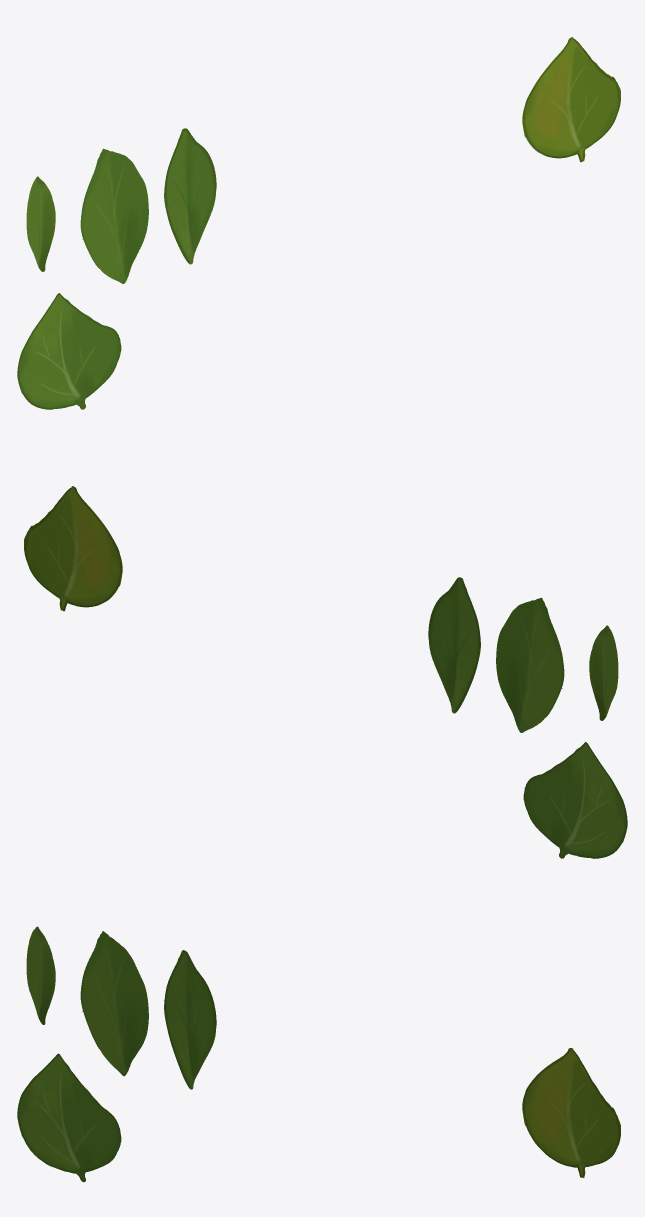
The model's file is big_leafs.fbx.
3 views of the same model, one above another, from view 1: azimuth 30°, elevation 25°; view 2: azimuth 150°, elevation 25°; view 3: azimuth 330°, elevation 25° (orthographic).
Visible parts, largest first — view 1: LLeaf1, LLeaf, big_leaf1, big_leaf2, big_leaf; view 2: LLeaf1, LLeaf, big_leaf1, big_leaf2, big_leaf; view 3: LLeaf1, LLeaf, big_leaf1, big_leaf2, big_leaf.
Boxes of the visible parts, <box> form: LLeaf1: <box>17,293,121,409</box>; LLeaf: <box>522,37,620,162</box>; big_leaf1: <box>80,148,148,283</box>; big_leaf2: <box>164,128,216,264</box>; big_leaf: <box>26,176,55,271</box>; LLeaf1: <box>523,742,627,858</box>; LLeaf: <box>24,486,122,611</box>; big_leaf1: <box>496,597,564,732</box>; big_leaf2: <box>428,577,480,713</box>; big_leaf: <box>589,625,618,720</box>; LLeaf1: <box>17,1053,121,1182</box>; LLeaf: <box>522,1048,620,1177</box>; big_leaf1: <box>80,931,148,1076</box>; big_leaf2: <box>164,950,216,1089</box>; big_leaf: <box>26,926,55,1024</box>.
Size of the model in its own units: 11.62 by 4.87 by 0.
